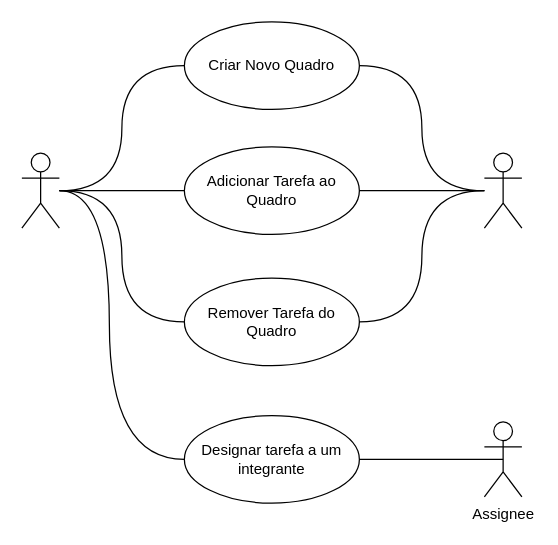
Some shapes in this 558 by 545 pixel diagram are drawn without their labels. The shapes that lost their labels are listed below. From the top down, each one's centre as x and y in pixels, then its label:
At (x=40, y=190): "Chair".
At (x=502, y=190): "Aplicação".
